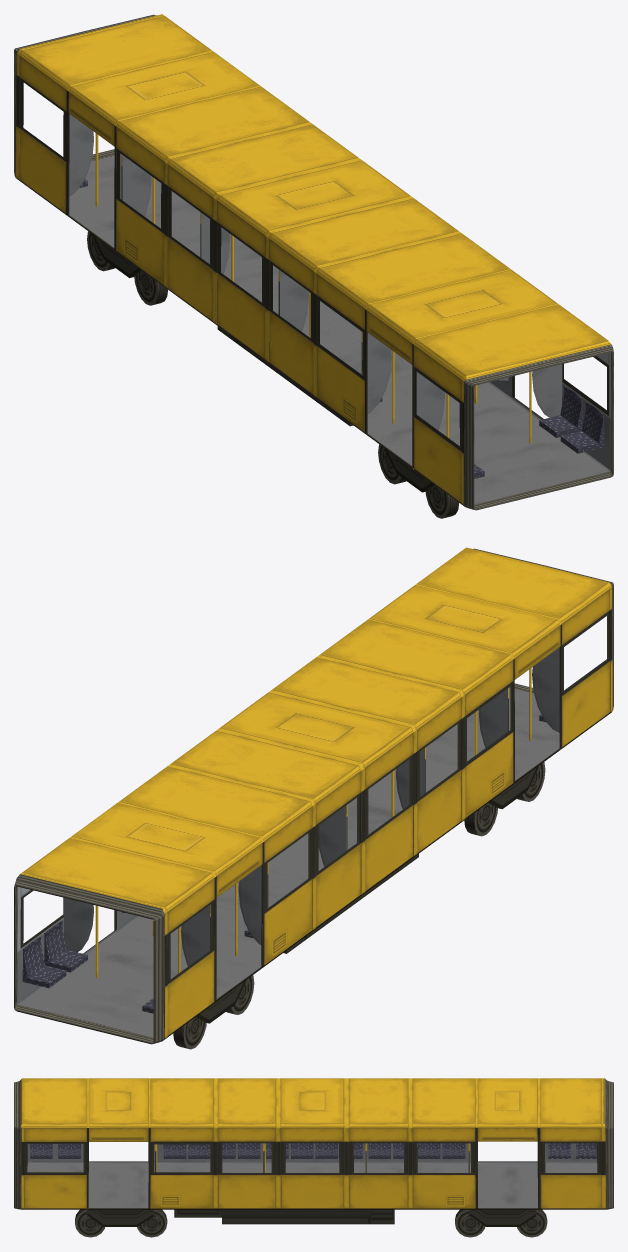
The model's file is Train1.2V2.fbx.
The picture shows the model from 3 angles, top to bottom: view 1: azimuth 30°, elevation 25°; view 2: azimuth 150°, elevation 25°; view 3: azimuth 270°, elevation 25°; orthographic projection. The views are drawn at different scales.
Parts seen in each view (by area): view 1: TrainMiddleCartV2; view 2: TrainMiddleCartV2; view 3: TrainMiddleCartV2.
Boxes of the visible parts, box(x1,y1,x2,y2) form: TrainMiddleCartV2: box(14, 14, 613, 518); TrainMiddleCartV2: box(14, 547, 613, 1049); TrainMiddleCartV2: box(14, 1078, 613, 1237).
Size of the model in its own units: 359 by 427 by 1919.
